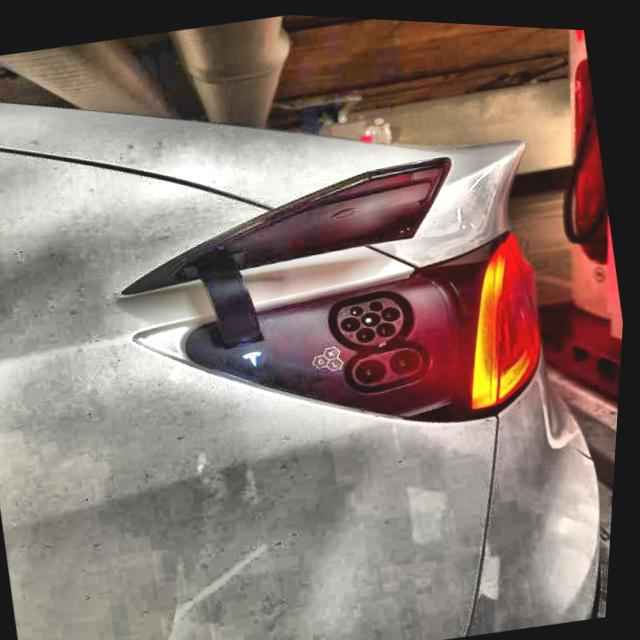inlet: (342, 294, 407, 341)
inlet-above-left: (353, 302, 368, 313)
inlet-above-right: (373, 297, 387, 307)
inlet-below-left: (360, 323, 380, 339)
inlet-below-right: (380, 318, 400, 334)
inlet-center: (365, 307, 385, 323)
inlet-center-left: (345, 313, 365, 328)
inlet-center-right: (384, 302, 405, 318)
